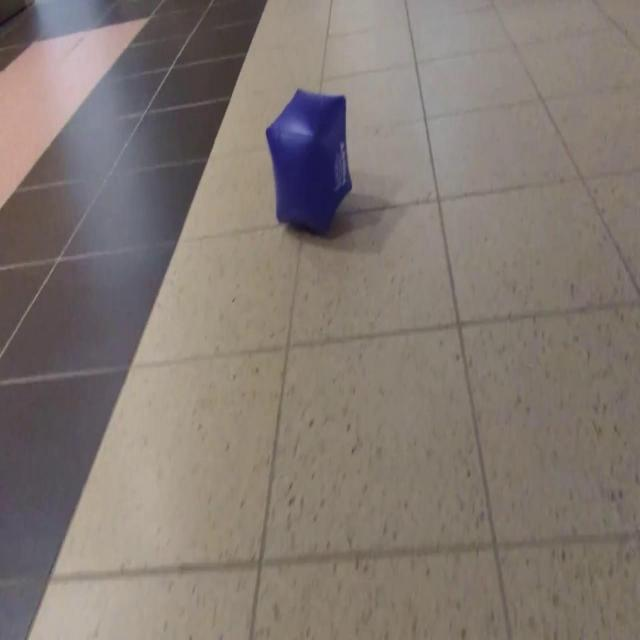frc_cube: (264, 89, 354, 235)
